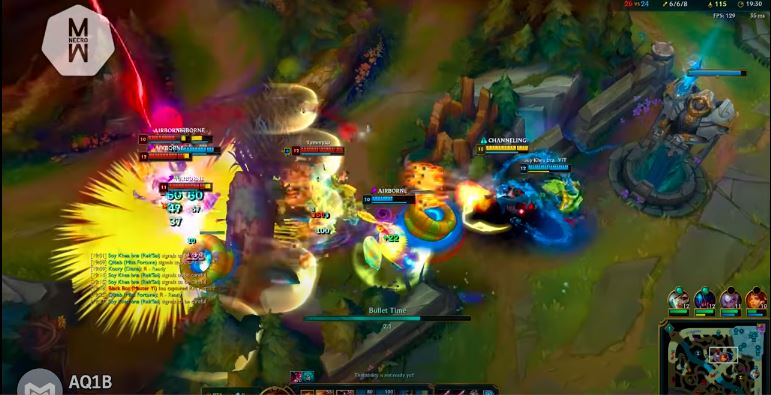bar: (135, 129, 213, 143), (290, 142, 347, 159), (360, 192, 420, 207), (518, 160, 573, 176), (156, 180, 215, 193), (166, 144, 225, 157), (136, 150, 191, 163), (475, 141, 532, 153)
